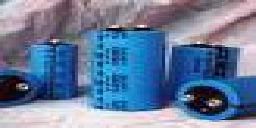Electrolytic Capacitor: (90, 18, 165, 116), (25, 37, 81, 109), (173, 78, 238, 121)
